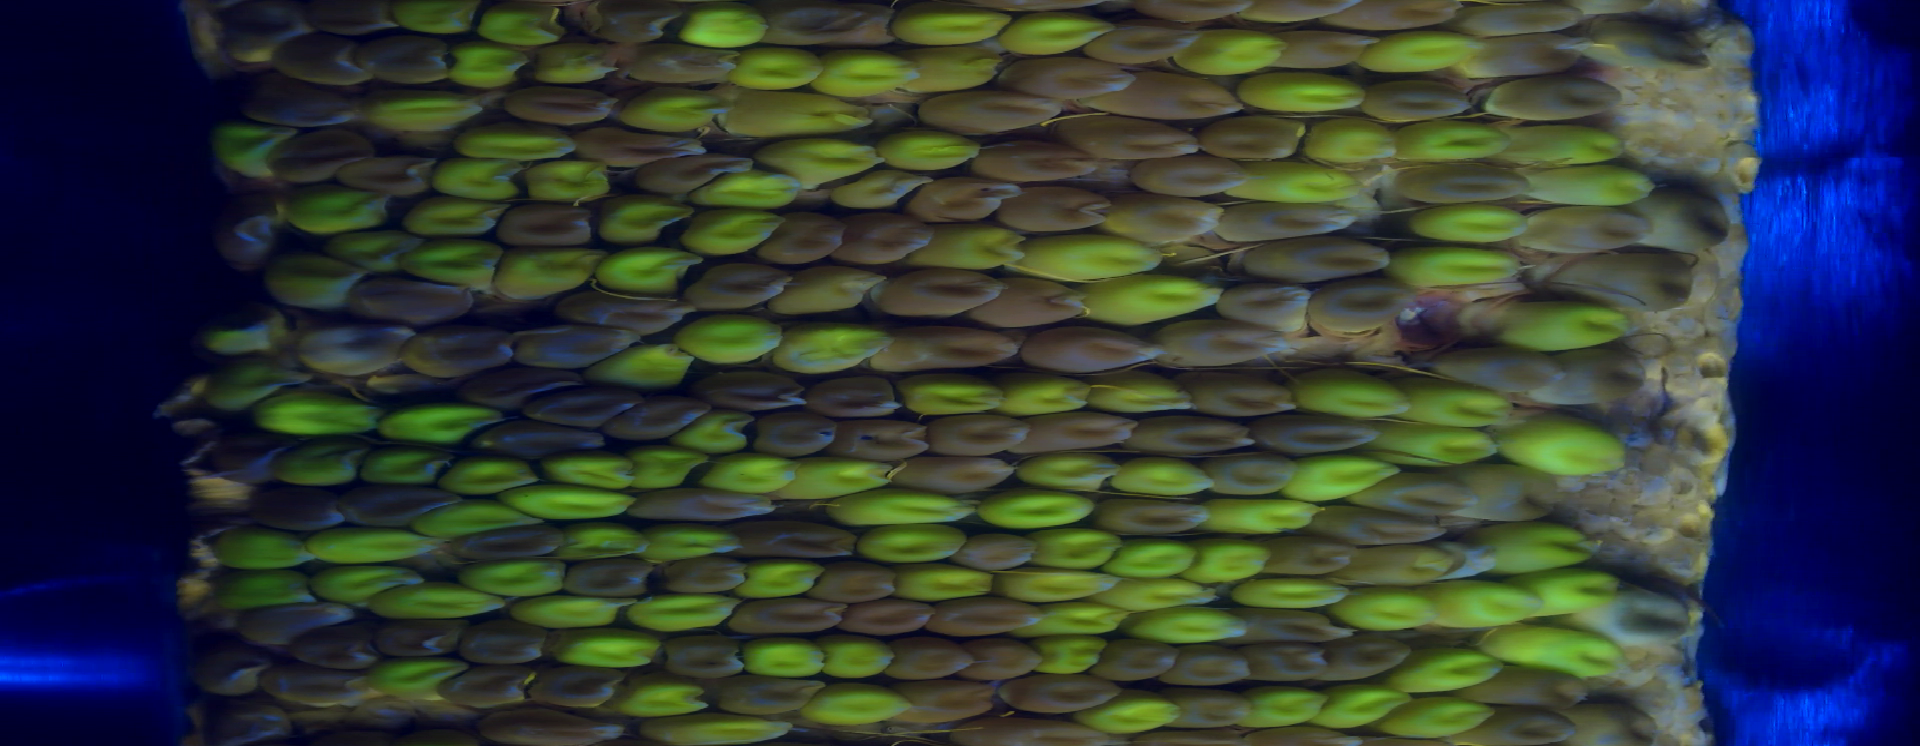fluorescent: (1489, 296, 1640, 352), (1513, 415, 1633, 484), (722, 89, 864, 145), (1076, 269, 1227, 321), (269, 250, 372, 314), (1489, 522, 1602, 576), (620, 77, 722, 136), (760, 134, 887, 181), (1294, 365, 1413, 415), (1498, 628, 1630, 673), (1524, 163, 1656, 207), (1424, 583, 1539, 632), (1364, 28, 1474, 78), (771, 326, 882, 376), (1024, 236, 1156, 278), (996, 9, 1116, 54), (500, 485, 638, 524), (889, 1, 1008, 47), (1408, 383, 1520, 431), (1176, 29, 1278, 81), (534, 451, 644, 499), (1307, 115, 1401, 170), (1407, 207, 1536, 247), (820, 51, 923, 102), (598, 246, 693, 300), (864, 132, 981, 176), (1537, 567, 1624, 626), (397, 198, 508, 244), (500, 240, 598, 292), (1401, 247, 1524, 288), (1289, 457, 1400, 502), (796, 454, 898, 503), (471, 1, 572, 50), (364, 588, 502, 624), (823, 488, 971, 521), (1255, 66, 1364, 110), (552, 632, 659, 676), (209, 358, 300, 409), (1396, 125, 1511, 165), (987, 488, 1098, 529), (201, 529, 315, 570), (1116, 454, 1220, 499), (1504, 125, 1627, 162), (1390, 428, 1498, 469), (633, 590, 737, 633), (729, 48, 822, 96), (444, 36, 527, 89), (523, 158, 620, 203), (1400, 646, 1504, 687), (678, 317, 774, 363), (1245, 160, 1356, 200), (909, 50, 997, 98), (1086, 372, 1193, 412), (407, 246, 498, 292), (902, 380, 1005, 420), (220, 567, 307, 615), (709, 454, 796, 502), (307, 559, 409, 599), (219, 124, 289, 183), (294, 194, 389, 236), (918, 225, 1016, 267), (257, 398, 376, 432), (638, 718, 780, 746), (746, 632, 822, 685), (381, 405, 504, 437), (438, 163, 530, 206), (693, 203, 796, 241), (307, 526, 424, 559), (563, 522, 648, 567), (527, 43, 612, 87), (820, 636, 898, 685), (735, 562, 818, 608), (887, 567, 1000, 600), (456, 132, 578, 163), (1131, 612, 1251, 643), (681, 7, 764, 51), (1111, 578, 1224, 610), (456, 452, 538, 496), (1338, 592, 1427, 632), (648, 530, 738, 570), (596, 345, 689, 383), (1402, 696, 1487, 737), (1033, 637, 1116, 680), (1002, 376, 1089, 416), (1242, 575, 1337, 611), (605, 203, 691, 243), (1082, 695, 1171, 733), (1000, 570, 1113, 599), (853, 526, 965, 555), (811, 691, 909, 724), (639, 439, 700, 491), (334, 232, 409, 274), (370, 451, 453, 489), (1220, 499, 1319, 530), (463, 565, 564, 595), (504, 598, 620, 625), (274, 448, 361, 483), (418, 502, 522, 530), (1038, 528, 1113, 567), (383, 99, 475, 131), (1118, 543, 1196, 578), (1037, 599, 1124, 631), (1029, 454, 1111, 488), (702, 171, 797, 200), (393, 1, 471, 36), (620, 684, 709, 713), (694, 410, 749, 454), (1198, 541, 1270, 575), (193, 320, 282, 344), (1260, 695, 1327, 726), (381, 658, 452, 687), (1331, 688, 1396, 720)
nonfluorescent: (1565, 254, 1700, 310), (1609, 577, 1696, 658), (1656, 176, 1738, 261), (1111, 69, 1236, 124), (1020, 323, 1158, 372), (1604, 17, 1716, 77), (1517, 205, 1657, 251), (1439, 343, 1565, 394), (1311, 277, 1413, 341), (918, 87, 1062, 131), (1071, 113, 1198, 160), (767, 2, 899, 48), (351, 273, 467, 323), (1491, 77, 1621, 121), (1109, 194, 1228, 241), (991, 276, 1095, 330), (880, 328, 1011, 370), (1011, 55, 1124, 103), (1155, 326, 1270, 372), (520, 320, 636, 365), (1100, 494, 1215, 539), (409, 322, 517, 370), (883, 272, 996, 317), (491, 707, 629, 744), (977, 137, 1095, 180), (1378, 474, 1477, 524), (1244, 236, 1393, 269), (1007, 181, 1104, 232), (1133, 156, 1251, 196), (563, 292, 684, 331), (1477, 469, 1562, 524), (636, 489, 784, 521), (213, 6, 295, 62), (284, 36, 373, 87), (714, 677, 820, 720), (1191, 372, 1298, 415), (1139, 416, 1259, 454), (743, 521, 862, 559), (1406, 163, 1532, 198), (580, 127, 698, 165), (709, 366, 813, 409), (244, 597, 354, 637), (299, 330, 414, 367), (1340, 1, 1467, 36), (1458, 1, 1584, 36), (503, 87, 617, 125), (1367, 76, 1469, 118), (1195, 111, 1300, 152), (1562, 352, 1640, 407), (624, 51, 736, 89), (1259, 416, 1385, 450), (1204, 451, 1298, 495), (606, 396, 703, 439), (251, 85, 367, 120), (578, 9, 683, 48), (839, 214, 921, 265), (688, 265, 781, 309), (502, 198, 591, 244), (759, 218, 849, 263), (1031, 415, 1141, 452), (249, 483, 336, 529), (1228, 283, 1307, 334), (276, 138, 372, 180), (1231, 202, 1367, 232), (1484, 706, 1582, 746), (263, 665, 367, 703), (1318, 506, 1433, 540), (460, 619, 557, 659), (962, 718, 1100, 746), (372, 40, 454, 87), (340, 484, 456, 517), (531, 661, 622, 703), (644, 154, 746, 191), (1167, 641, 1251, 685), (898, 459, 1013, 491), (1469, 40, 1580, 73), (1578, 699, 1656, 746), (841, 420, 929, 461), (482, 424, 596, 454), (921, 176, 1007, 217), (214, 702, 293, 746), (1329, 639, 1404, 685), (933, 603, 1041, 635), (222, 209, 283, 265), (840, 600, 932, 637), (377, 625, 460, 665), (996, 677, 1120, 704), (522, 391, 636, 420), (1100, 26, 1189, 62), (818, 379, 906, 415), (1485, 669, 1583, 702), (459, 370, 572, 398), (933, 415, 1025, 450), (202, 646, 269, 692), (732, 603, 841, 631), (1277, 36, 1369, 69), (1247, 648, 1329, 685), (300, 1, 387, 36), (959, 532, 1032, 572), (1106, 633, 1173, 677), (459, 533, 564, 561), (909, 685, 998, 718), (895, 639, 970, 677), (351, 167, 437, 200), (296, 631, 373, 668), (754, 418, 831, 454), (214, 432, 277, 478), (1273, 539, 1352, 575), (976, 637, 1044, 677), (446, 666, 531, 698), (658, 559, 749, 588), (566, 561, 647, 594), (1247, 617, 1346, 641), (820, 567, 895, 598), (667, 637, 741, 668), (1174, 696, 1247, 726)
